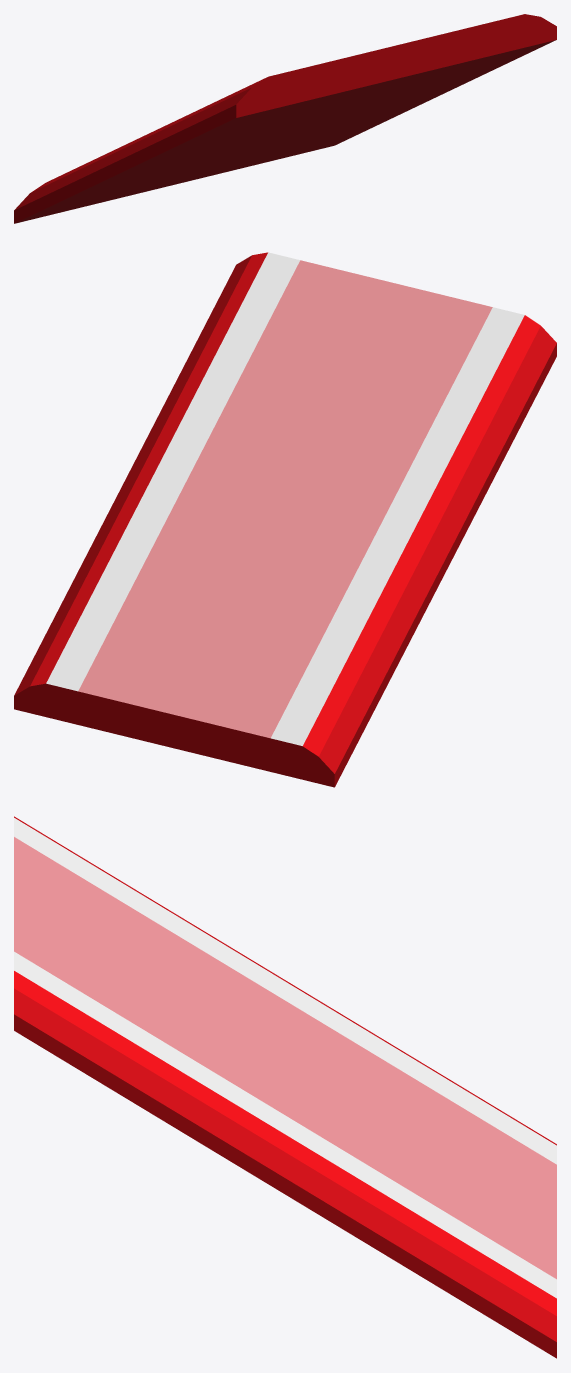
File: inc14.fbx
3 renders of one model, top to bottom at view 1: azimuth 30°, elevation 25°; view 2: azimuth 150°, elevation 25°; view 3: azimuth 270°, elevation 25°, orthographic. The views are drawn at different scales.
Visible parts, largest first — view 1: Incline4; view 2: Incline4; view 3: Incline4.
Boxes of the visible parts, x1,y1,x2,y2 form: Incline4: (14,14,556,223); Incline4: (14,252,556,787); Incline4: (14,816,556,1358).
Size of the model in its own units: 10 by 9 by 12.
